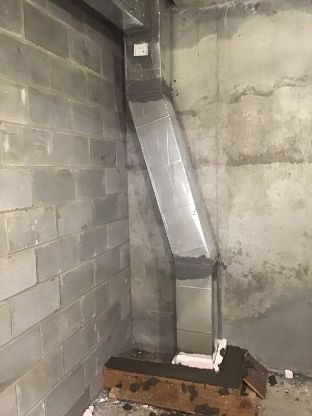Duct: (88, 1, 224, 376)
